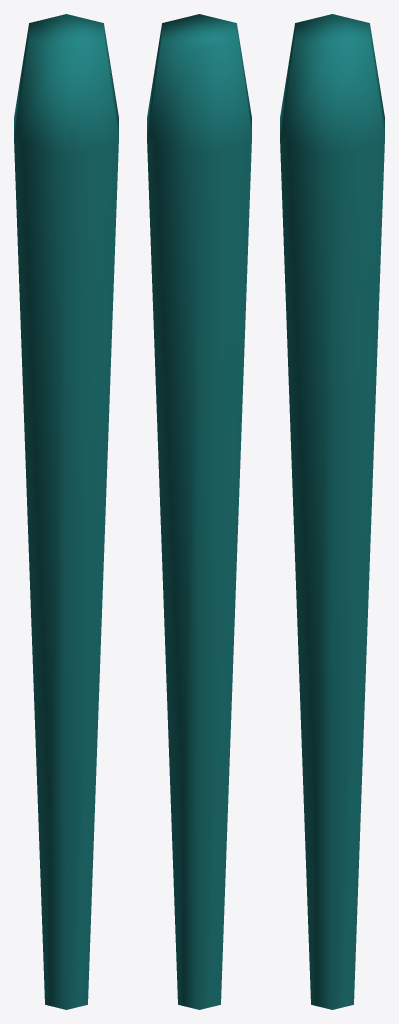
The model's file is gymnastic_mace_collider.fbx.
The picture shows the model from 3 angles, left to right: view 1: azimuth 90°, elevation 25°; view 2: azimuth 210°, elevation 25°; view 3: azimuth 270°, elevation 25°; orthographic projection.
Parts seen in each view (by area): view 1: gymnastic_mace_collider; view 2: gymnastic_mace_collider; view 3: gymnastic_mace_collider.
Part boxes in pixels (x1,y1,x2,y2): gymnastic_mace_collider: (14, 14, 118, 1009); gymnastic_mace_collider: (147, 14, 251, 1009); gymnastic_mace_collider: (280, 14, 384, 1009).
Size of the model in its own units: 4.6 by 40.61 by 3.99.
